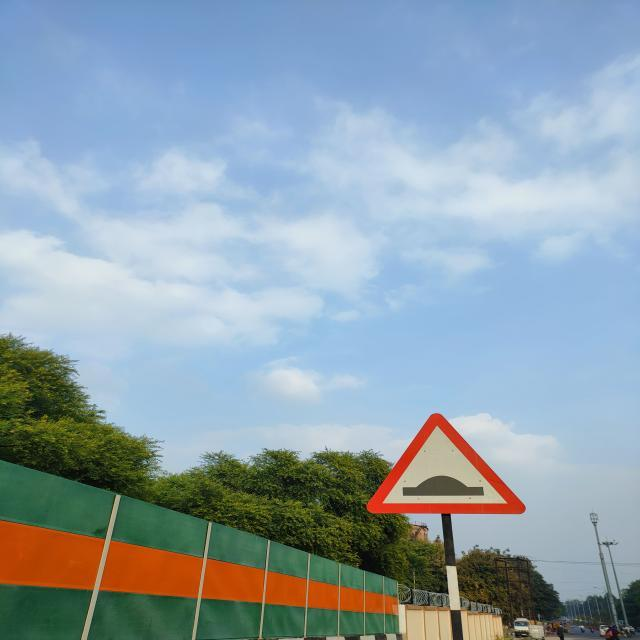hump or rough road: (360, 407, 534, 519)
